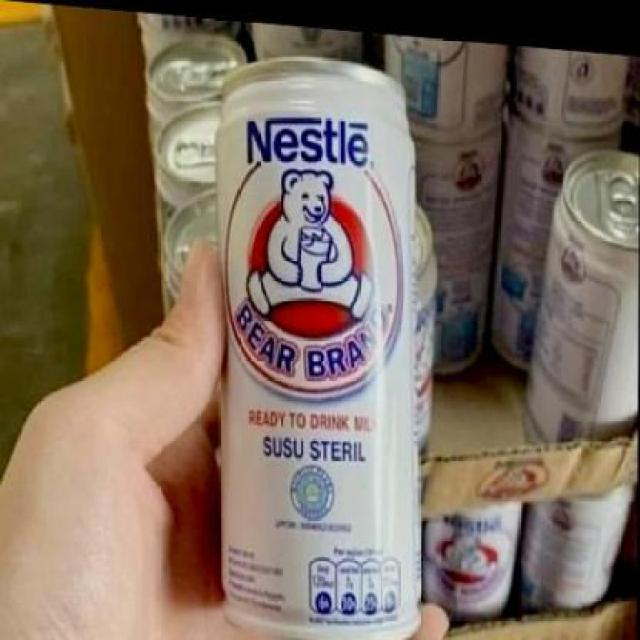Metal: (209, 51, 431, 640)
